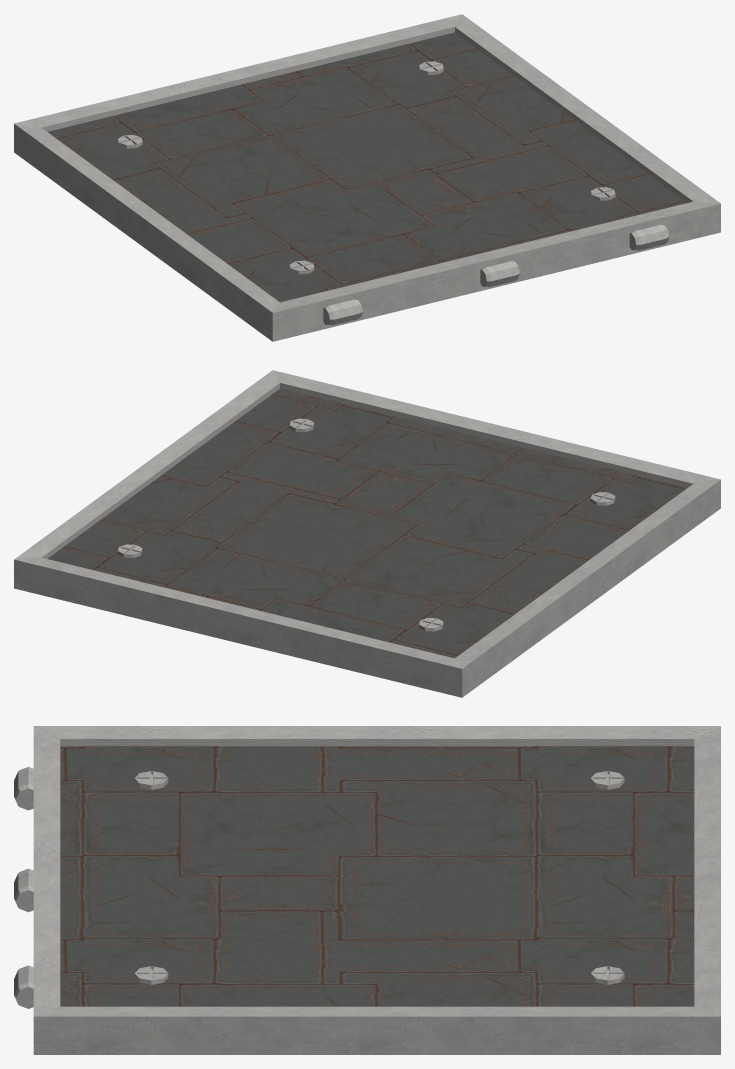
Rendered from Vents_sol_plafond_plain.fbx.
3 views of the same model, one above another, from view 1: azimuth 30°, elevation 25°; view 2: azimuth 150°, elevation 25°; view 3: azimuth 270°, elevation 25° (orthographic). The views are drawn at different scales.
Parts seen in each view (by area): view 1: Vent_sol_plafond_plain; view 2: Vent_sol_plafond_plain; view 3: Vent_sol_plafond_plain.
Part boxes in pixels (<box>): Vent_sol_plafond_plain: <box>14,14,720,341</box>; Vent_sol_plafond_plain: <box>14,370,720,697</box>; Vent_sol_plafond_plain: <box>14,726,720,1054</box>.
Bounding box in the file's own units: 2 × 0.1234 × 2.06.
Materials: 2 (2 with a texture image).
